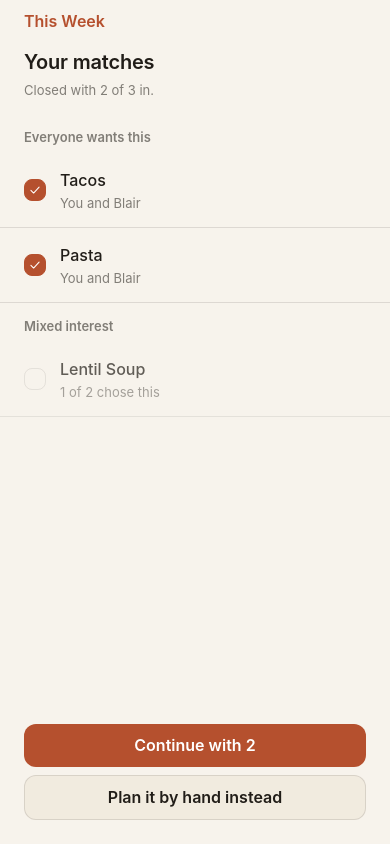
cannot continue with nothing ticked
Click the checkbox with test id "results-row-tacos": click(195, 190) [0,153,389,228]
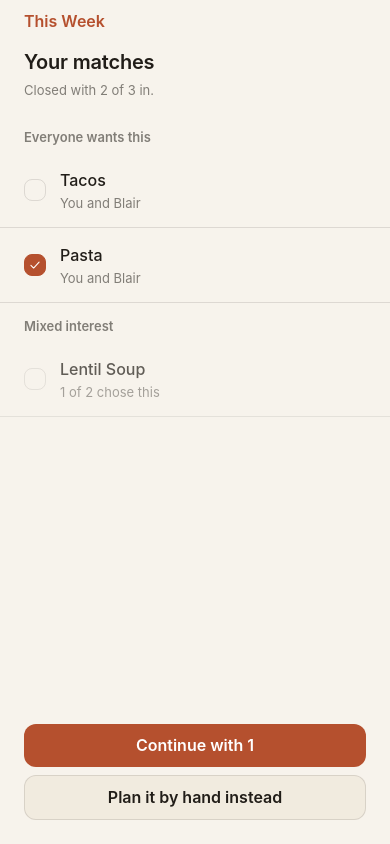
Click the checkbox with test id "results-row-pasta": click(195, 266) [0,228,389,303]
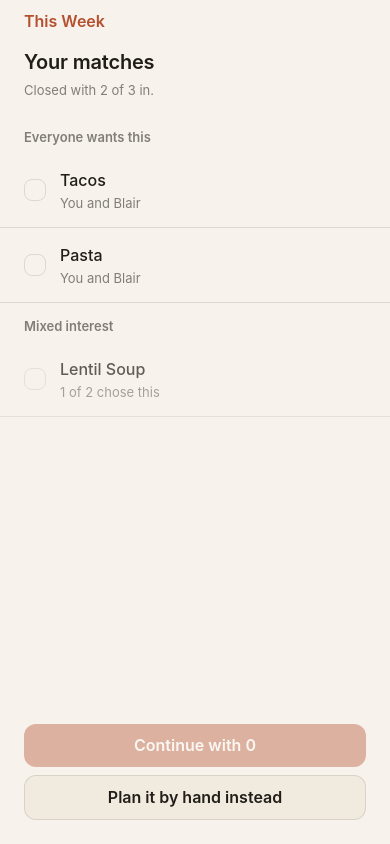
expect the text "Continue with 0" is shown: met, box [134,732,256,759]
expect the button with test id "results-continue" is disabled: met, box [24,724,366,767]
